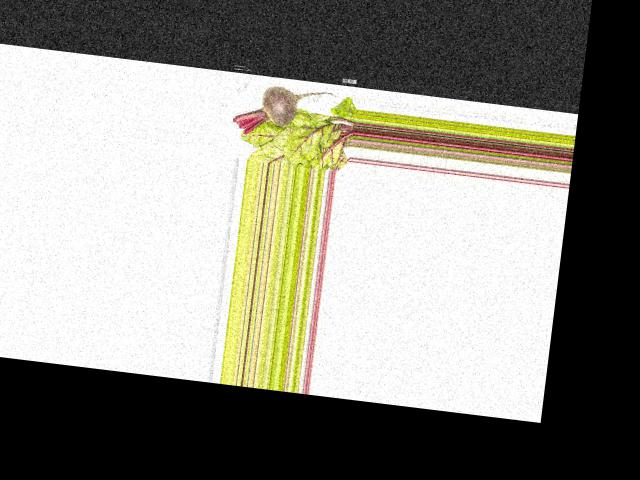beet: (231, 80, 335, 144)
